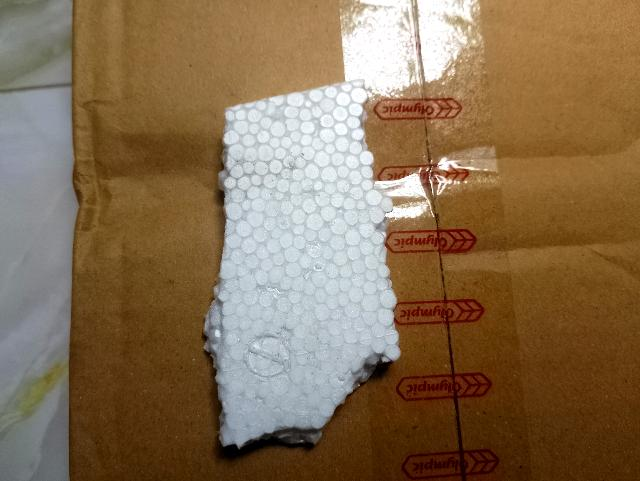cocksheet: (208, 100, 402, 441)
